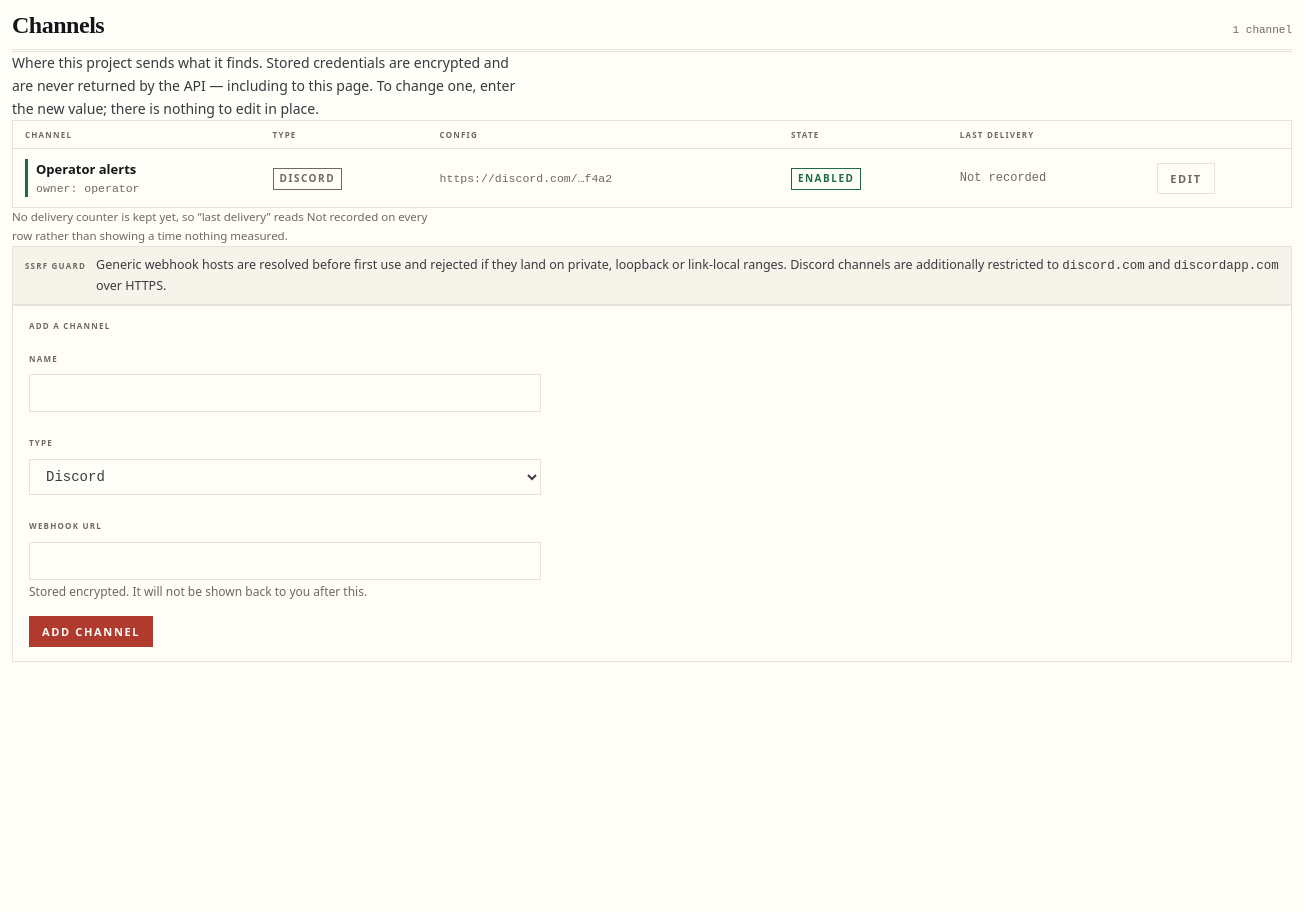
AdminChannelsPage › surfaces a rejected URL rather than failing silently
Expected: the text "Operator alerts" is shown, [36, 160, 140, 180]
In the field labelled "Name": [285, 393] box [29, 374, 541, 412], type "Bad"
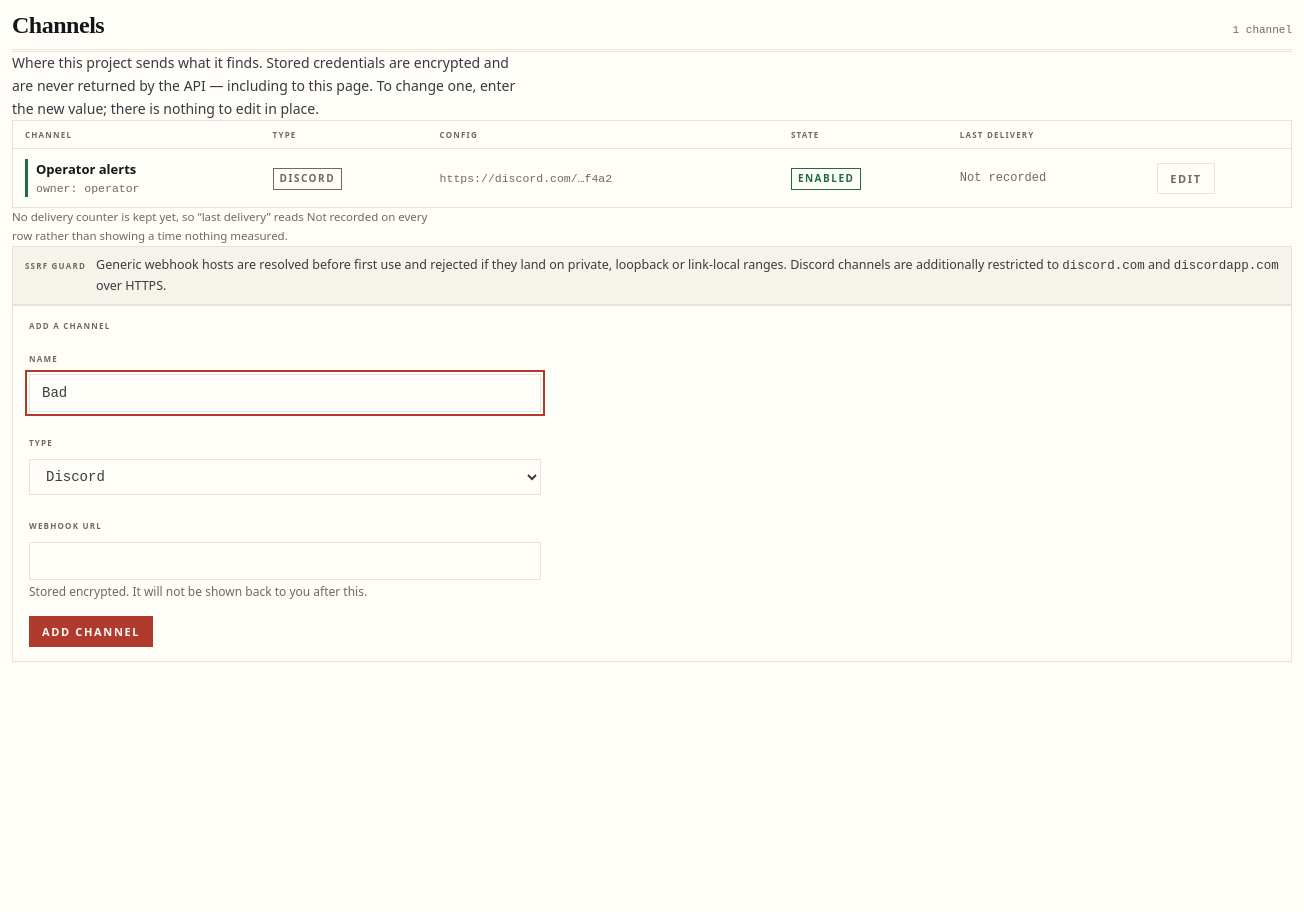
In the field labelled "Webhook URL": [285, 561] box [29, 542, 541, 580], type "http://169.254.169.254/"
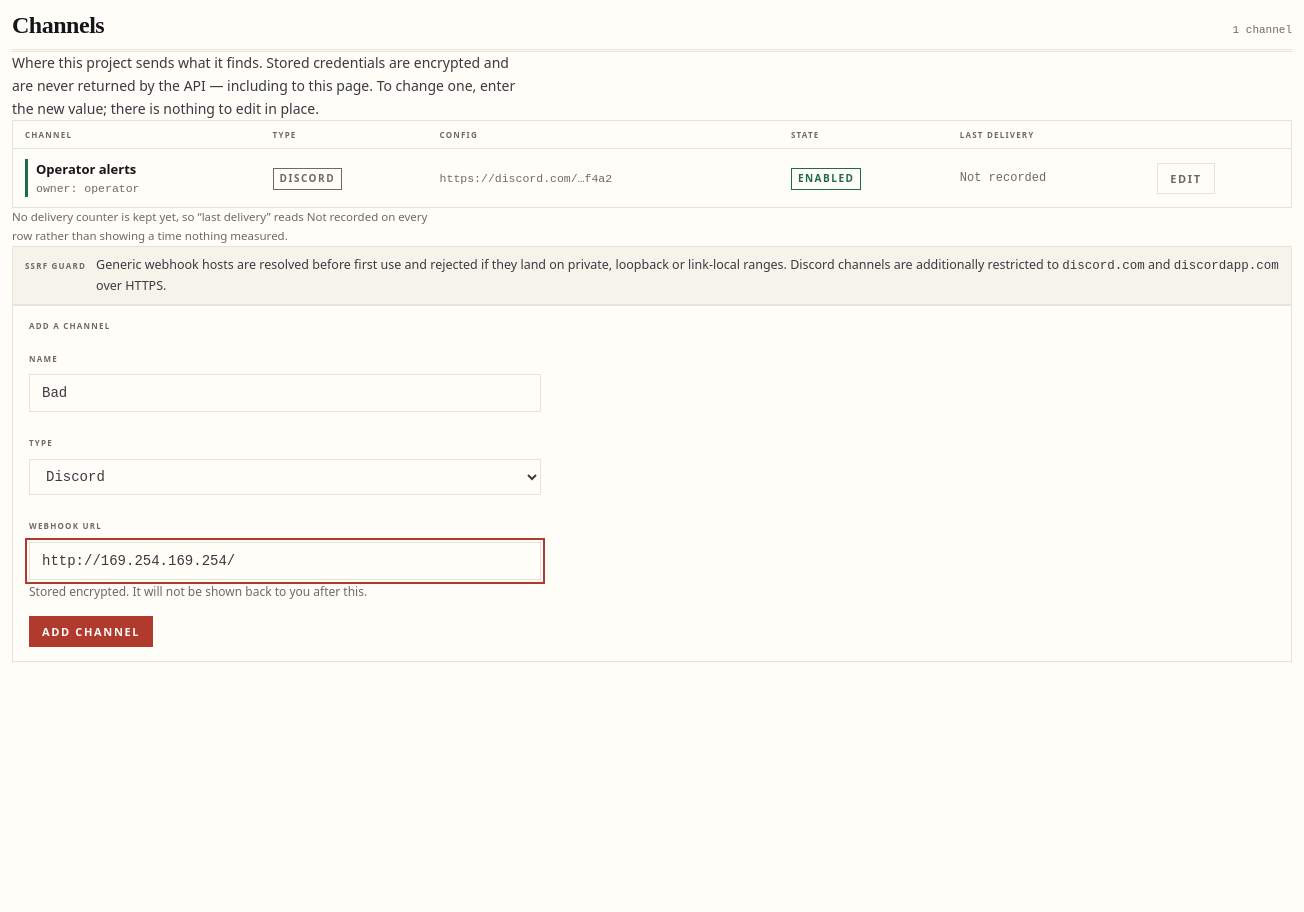
Click the button "Add channel": [91, 632] box [29, 616, 153, 647]
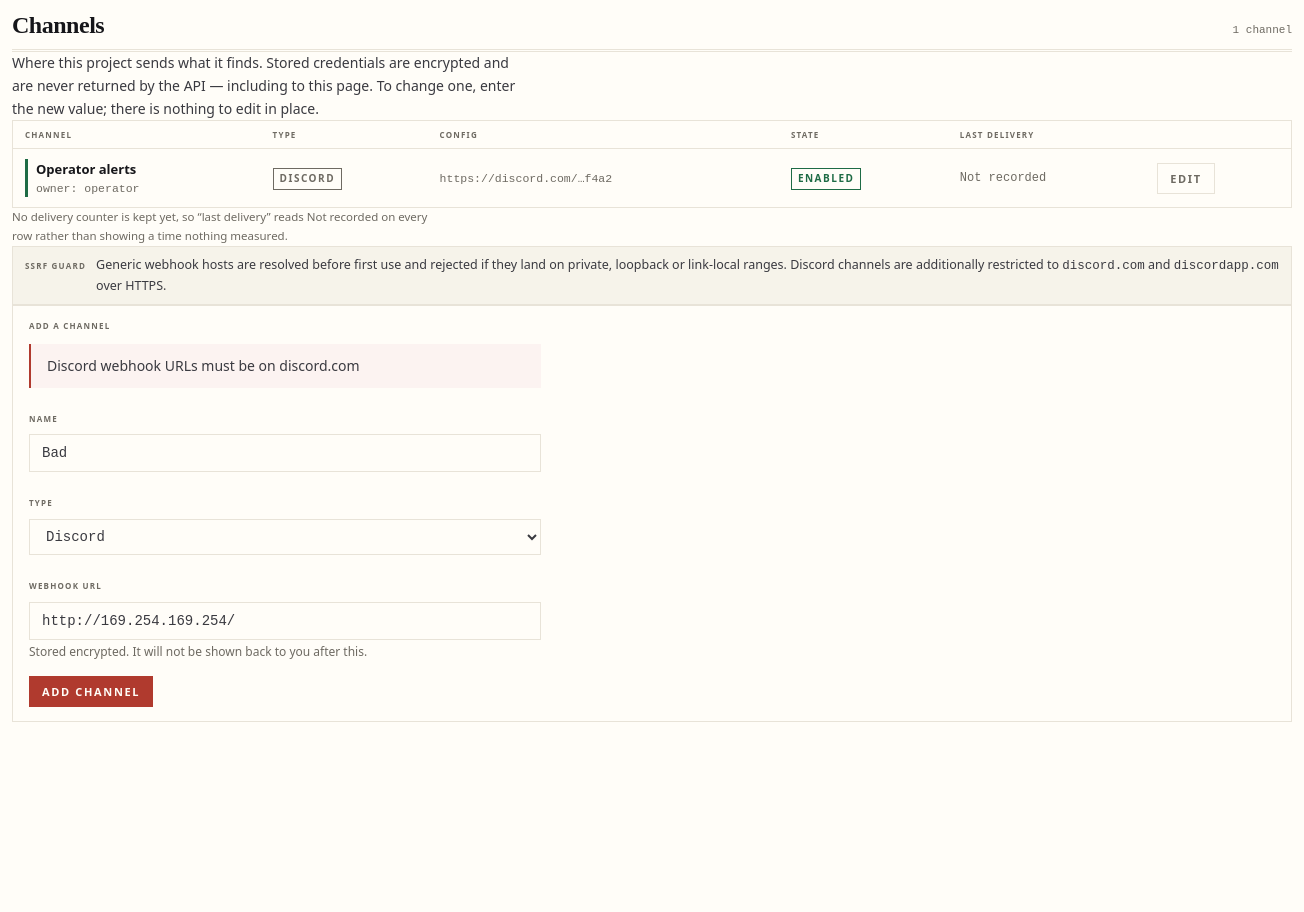
Now the message reads "Discord webhook URLs must be on discord.com", box [47, 356, 360, 375]
